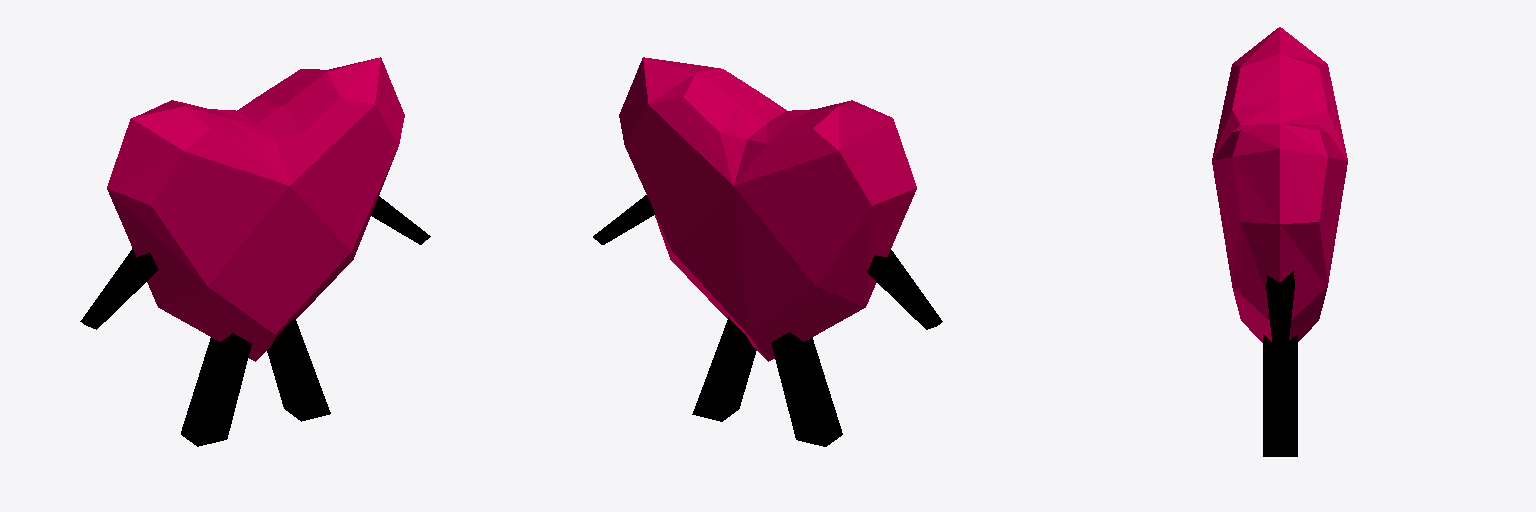
File: HeartMan.obj
3 views of the same model, side by side, from view 1: azimuth 30°, elevation 25°; view 2: azimuth 150°, elevation 25°; view 3: azimuth 270°, elevation 25° (orthographic).
Parts seen in each view (by area): view 1: Cube_Cube, LegL_Cube.002, LegR_Cube.001, ArmL_Cube.003, ArmR_Cube.004; view 2: Cube_Cube, LegL_Cube.002, LegR_Cube.001, ArmL_Cube.003, ArmR_Cube.004; view 3: Cube_Cube, LegR_Cube.001, ArmR_Cube.004.
Part boxes in pixels (bbox=[...]): Cube_Cube: bbox=[107, 57, 404, 361]; LegL_Cube.002: bbox=[181, 333, 251, 446]; LegR_Cube.001: bbox=[267, 318, 330, 421]; ArmL_Cube.003: bbox=[80, 248, 158, 329]; ArmR_Cube.004: bbox=[371, 196, 430, 244]; Cube_Cube: bbox=[619, 57, 916, 361]; LegL_Cube.002: bbox=[771, 332, 842, 446]; LegR_Cube.001: bbox=[692, 317, 756, 421]; ArmL_Cube.003: bbox=[867, 250, 942, 329]; ArmR_Cube.004: bbox=[593, 195, 655, 244]; Cube_Cube: bbox=[1212, 27, 1347, 342]; LegR_Cube.001: bbox=[1263, 334, 1297, 456]; ArmR_Cube.004: bbox=[1266, 271, 1294, 361].
Size of the model in its own units: 6.59 by 6.16 by 2.26.